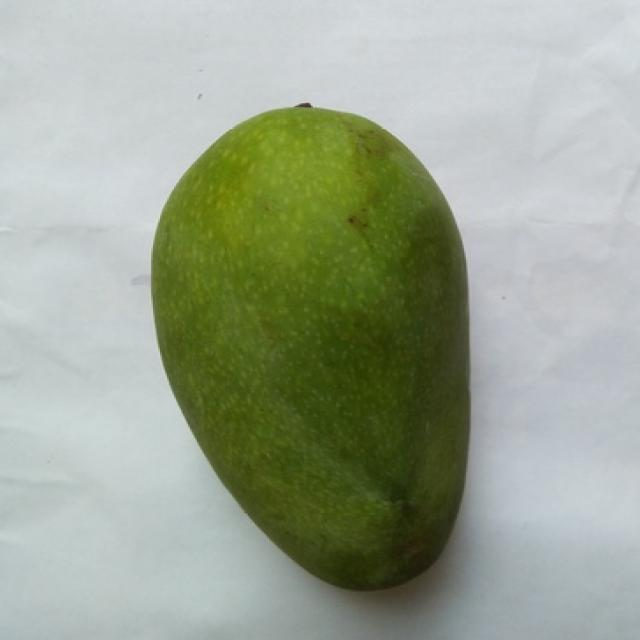Mango: (151, 105, 468, 589)
